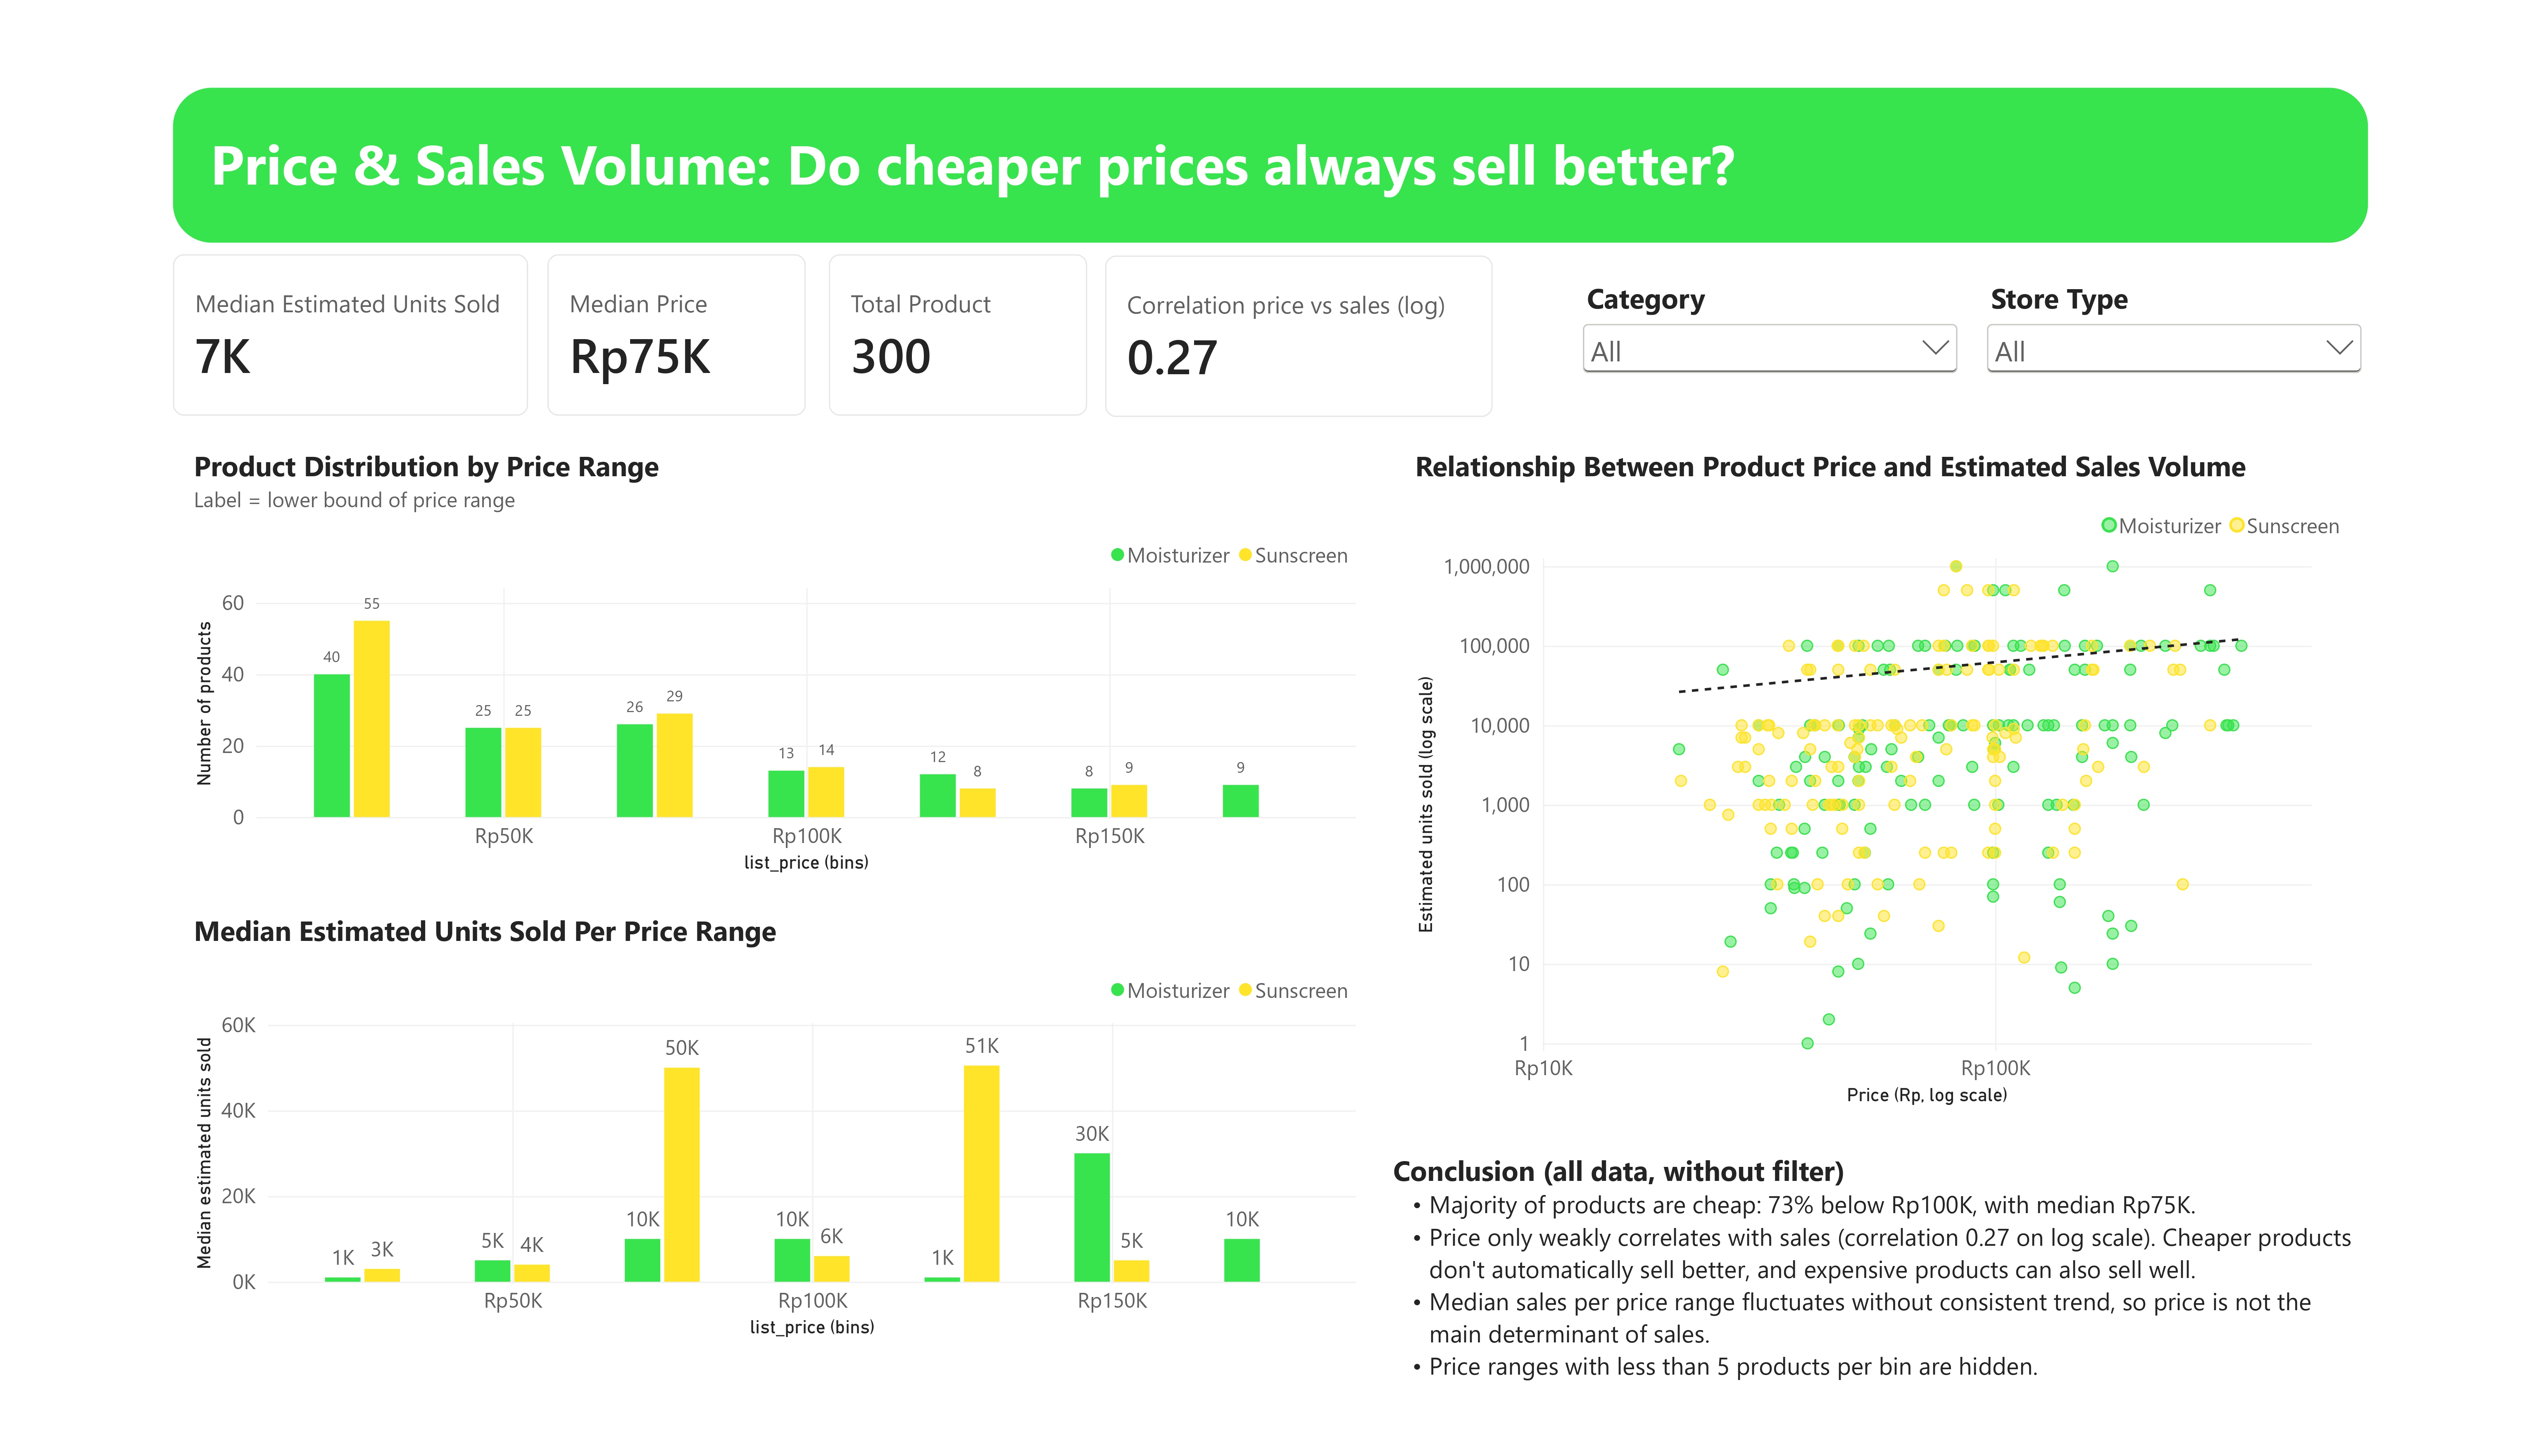

What the dashboard file says about the page in this screenshot:
{"tool":"powerbi","page":{"name":"RQ1","canvas":[1920,1080],"ordinal":0},"visuals":[{"type":"cardVisual","fields":{"Data":["clean_skincare.Median Harga"]},"box":[400,173.3,200,125],"z":0},{"type":"cardVisual","fields":{"Data":["clean_skincare.Median Terjual"]},"box":[110,173.3,275,125],"z":1000},{"type":"cardVisual","fields":{"Data":["clean_skincare.Korelasi Log"]},"box":[832,174,300,125],"z":2000},{"type":"shape","box":[110,44,1700,120],"z":3000},{"type":"slicer","fields":{"Values":["clean_skincare.search_keyword"]},"box":[1196.7,191.7,300,88.3],"z":4000},{"type":"clusteredColumnChart","title":"Product Distribution by Price Range","fields":{"Category":["clean_skincare.list_price (bins)"],"Series":["clean_skincare.search_keyword"],"Y":["clean_skincare.Total Product"]},"box":[110,308,932,360],"z":5000},{"type":"clusteredColumnChart","title":"Median Estimated Units Sold Per Price Range","fields":{"Category":["clean_skincare.list_price (bins)"],"Series":["clean_skincare.search_keyword"],"Y":["Median(clean_skincare.estimated_sold)"]},"box":[110,668,932,360],"z":6000},{"type":"scatterChart","title":"Relationship Between Product Price and Estimated Sales Volume","fields":{"Series":["clean_skincare.search_keyword"],"X":["clean_skincare.list_price"],"Y":["clean_skincare.estimated_sold"]},"box":[1056,308,754,540],"z":7000},{"type":"cardVisual","fields":{"Data":["clean_skincare.Total Product"]},"box":[618.3,173.3,200,125],"z":8000},{"type":"slicer","fields":{"Values":["clean_skincare.shop_badge"]},"box":[1510,191.7,300,88.3],"z":9000},{"type":"textbox","box":[1055,868.3,755,211.7],"z":10000}]}

Visuals, with their boxes on the page's 1920x1080 design canvas (x1, y1, x2, y2). These are canvas units, not pixel positions in the 2541x1456 screenshot, which may show the page scaled, cropped or inside an application window:
cardVisual - clean_skincare.Median Harga: Rect(400, 173, 600, 298)
cardVisual - clean_skincare.Median Terjual: Rect(110, 173, 385, 298)
cardVisual - clean_skincare.Korelasi Log: Rect(832, 174, 1132, 299)
shape: Rect(110, 44, 1810, 164)
slicer - clean_skincare.search_keyword: Rect(1197, 192, 1497, 280)
"Product Distribution by Price Range" clusteredColumnChart: Rect(110, 308, 1042, 668)
"Median Estimated Units Sold Per Price Range" clusteredColumnChart: Rect(110, 668, 1042, 1028)
"Relationship Between Product Price and Estimated Sales Volume" scatterChart: Rect(1056, 308, 1810, 848)
cardVisual - clean_skincare.Total Product: Rect(618, 173, 818, 298)
slicer - clean_skincare.shop_badge: Rect(1510, 192, 1810, 280)
textbox: Rect(1055, 868, 1810, 1080)
